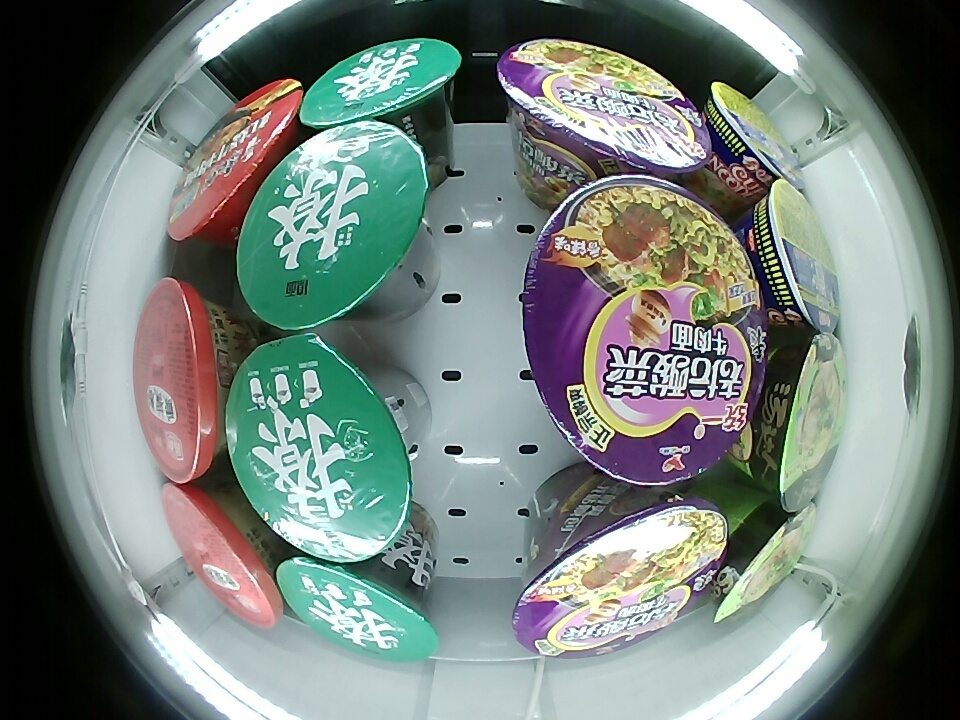heweidao: (754, 179, 842, 333), (704, 82, 803, 192)
hongshaoniurou: (170, 77, 305, 242)
laotansuancai: (522, 174, 765, 486), (513, 489, 729, 657), (496, 38, 713, 181)
liaomian: (226, 333, 410, 564), (236, 121, 430, 329), (276, 554, 437, 660), (299, 39, 460, 132)
suanlafen: (135, 278, 240, 482), (162, 477, 285, 626)
tangdaren: (750, 333, 846, 512), (705, 496, 819, 642)
